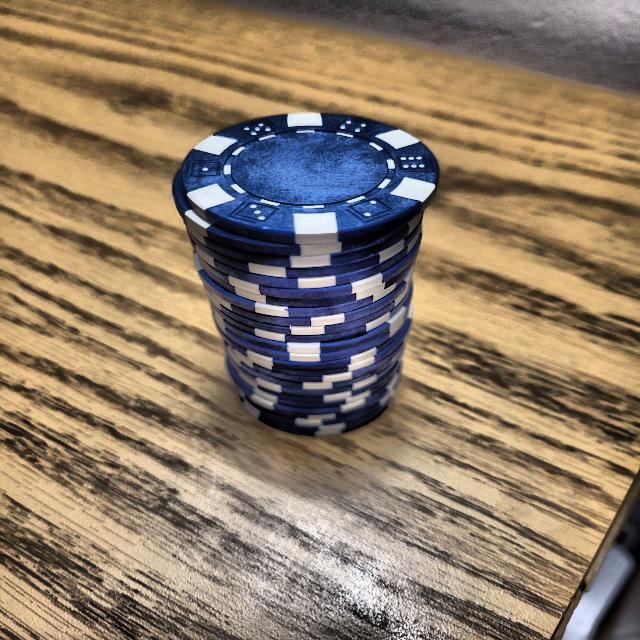Chip: (135, 78, 479, 453)
